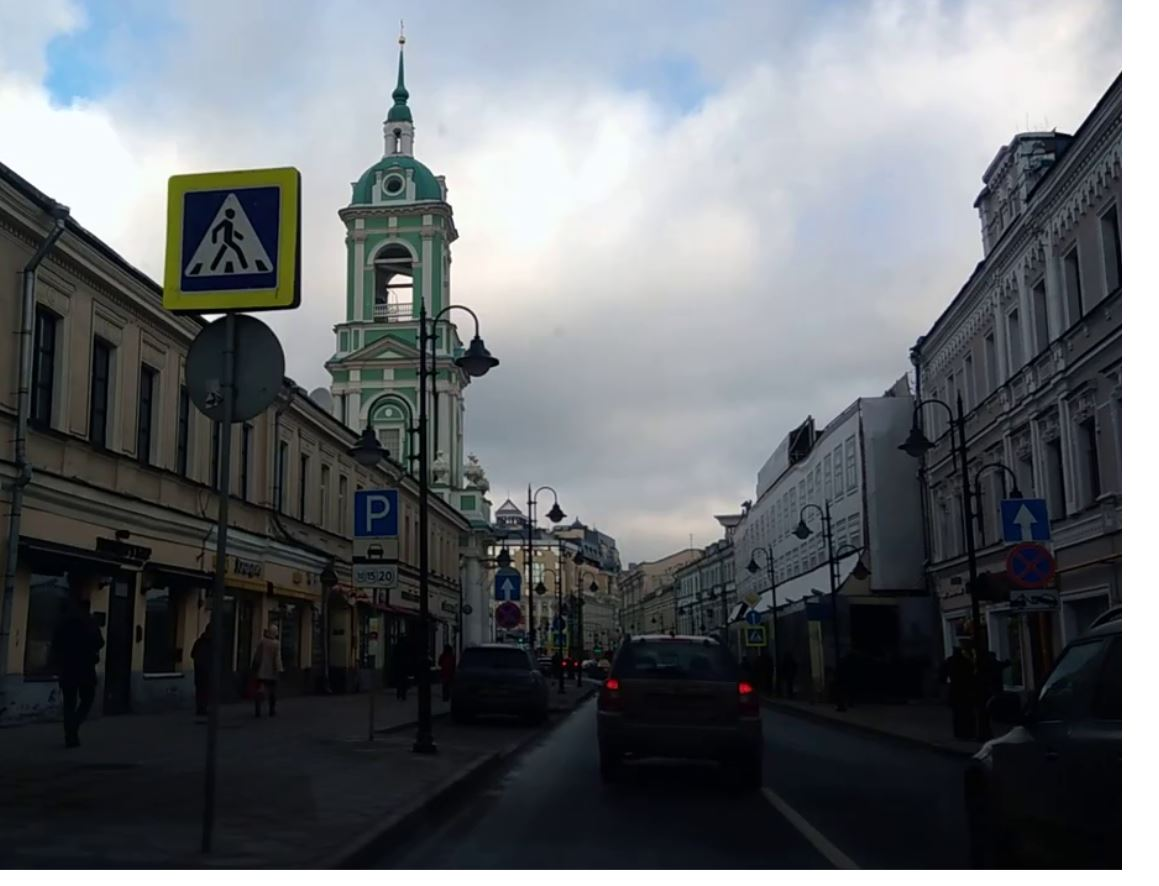Yaya Gecidi: (180, 181, 280, 296)
